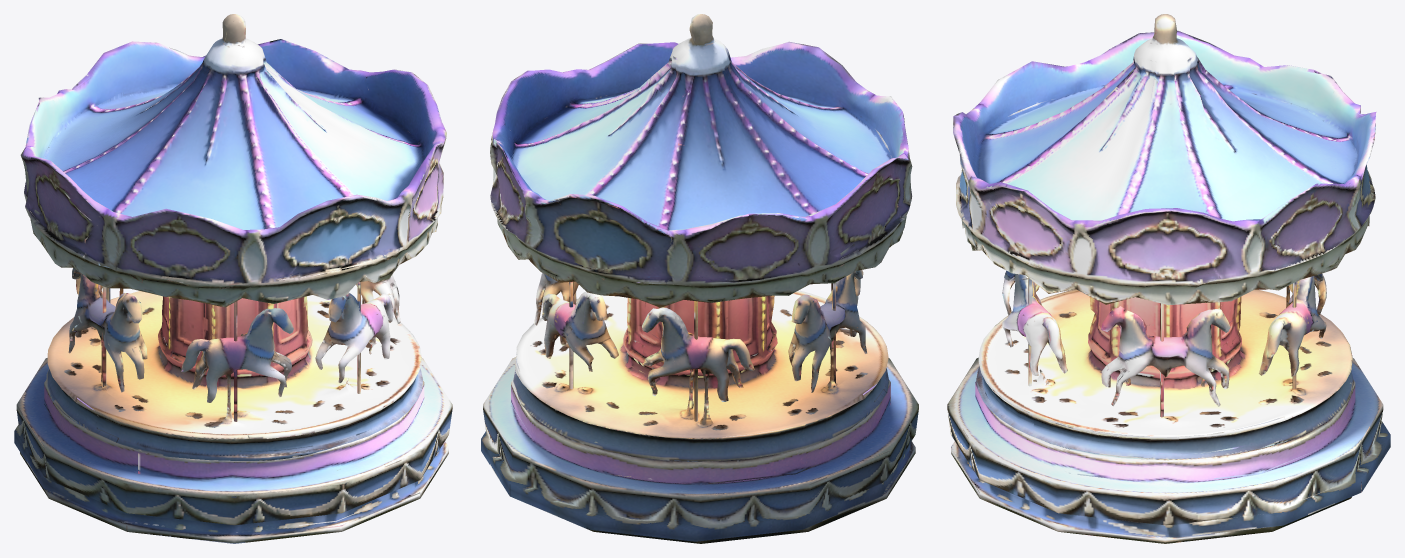
File: 05_fantasia-carousel.glb
The picture shows the model from 3 angles, left to right: view 1: azimuth 30°, elevation 25°; view 2: azimuth 150°, elevation 25°; view 3: azimuth 270°, elevation 25°; orthographic projection.
Visible parts, largest first — view 1: xuanzhuanmuma_main, xuanzhuanmuma_rotate; view 2: xuanzhuanmuma_main, xuanzhuanmuma_rotate; view 3: xuanzhuanmuma_main, xuanzhuanmuma_rotate.
Boxes of the visible parts, bbox=[...] form: xuanzhuanmuma_main: bbox=[14, 14, 452, 543]; xuanzhuanmuma_rotate: bbox=[46, 267, 422, 460]; xuanzhuanmuma_main: bbox=[481, 14, 918, 543]; xuanzhuanmuma_rotate: bbox=[513, 270, 889, 461]; xuanzhuanmuma_main: bbox=[947, 14, 1390, 543]; xuanzhuanmuma_rotate: bbox=[976, 270, 1353, 459].
Size of the model in its own units: 13.78 by 15.29 by 14.02.
Materials: 1 (1 with a texture image).
